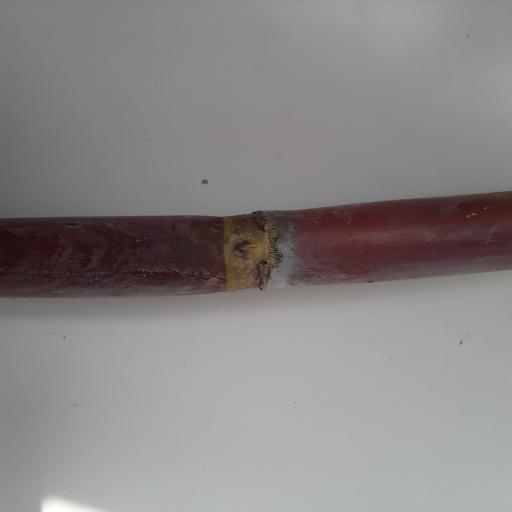Bud: (234, 237, 259, 260)
